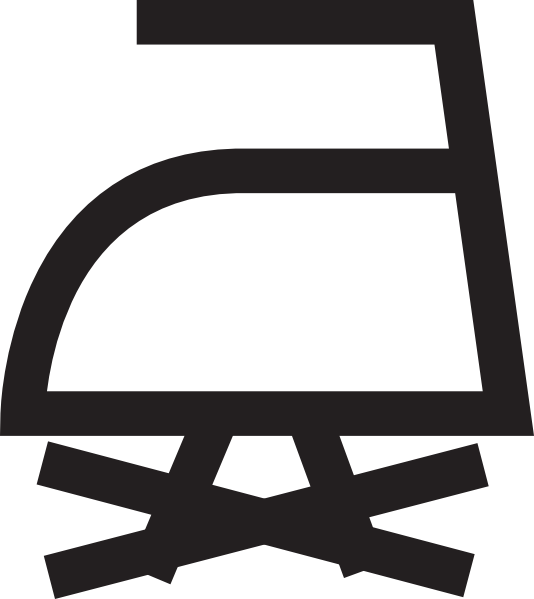do_not_iron: (1, 1, 533, 595)
